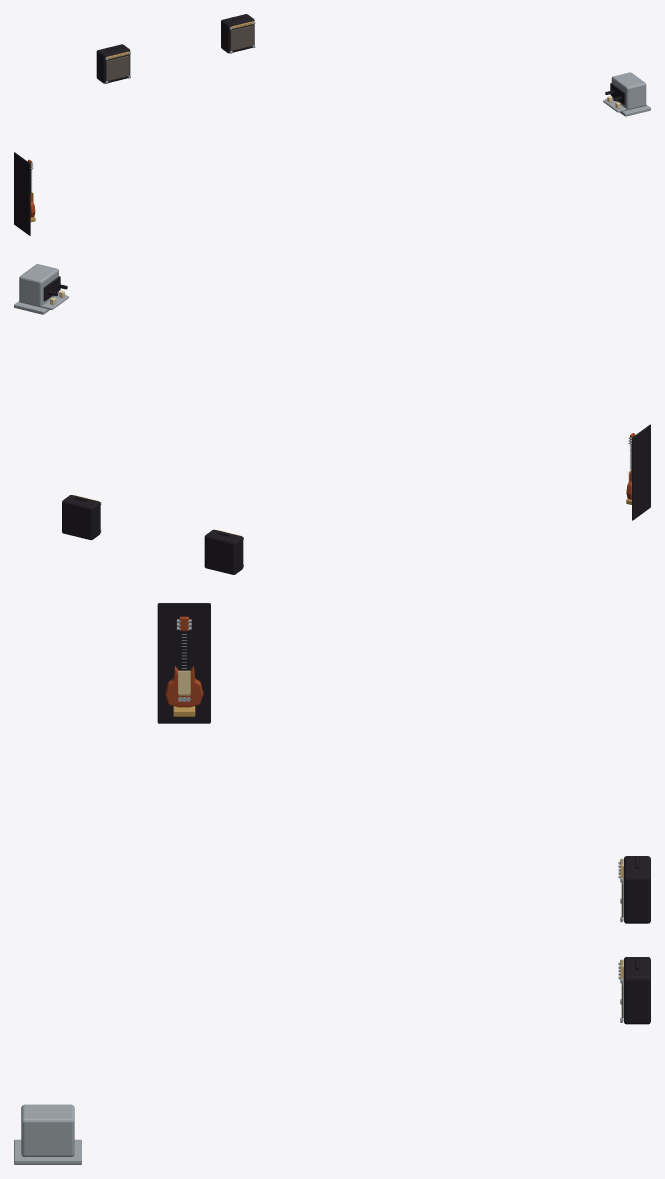
Rendered from hero.glb.
3 renders of one model, top to bottom at view 1: azimuth 30°, elevation 25°; view 2: azimuth 150°, elevation 25°; view 3: azimuth 270°, elevation 25°, orthographic. The views are drawn at different scales.
Parts seen in each view (by area): view 1: Hero_ebony.001, Hero_chrome.001, Hero_cloth.001; view 2: Hero_ebony.001, Hero_chrome.001; view 3: Hero_ebony.001, Hero_chrome.001, Hero_sunburst.001.
Boxes of the visible parts, x1,y1,x2,y2 form: Hero_ebony.001: [14, 14, 625, 235]; Hero_chrome.001: [27, 21, 650, 191]; Hero_cloth.001: [106, 25, 253, 80]; Hero_ebony.001: [43, 276, 650, 574]; Hero_chrome.001: [14, 264, 635, 566]; Hero_ebony.001: [157, 603, 650, 1024]; Hero_chrome.001: [14, 619, 622, 1164]; Hero_sunburst.001: [165, 616, 203, 707].
Bounding box in the file's own units: 16.29 × 2.04 × 9.35.
